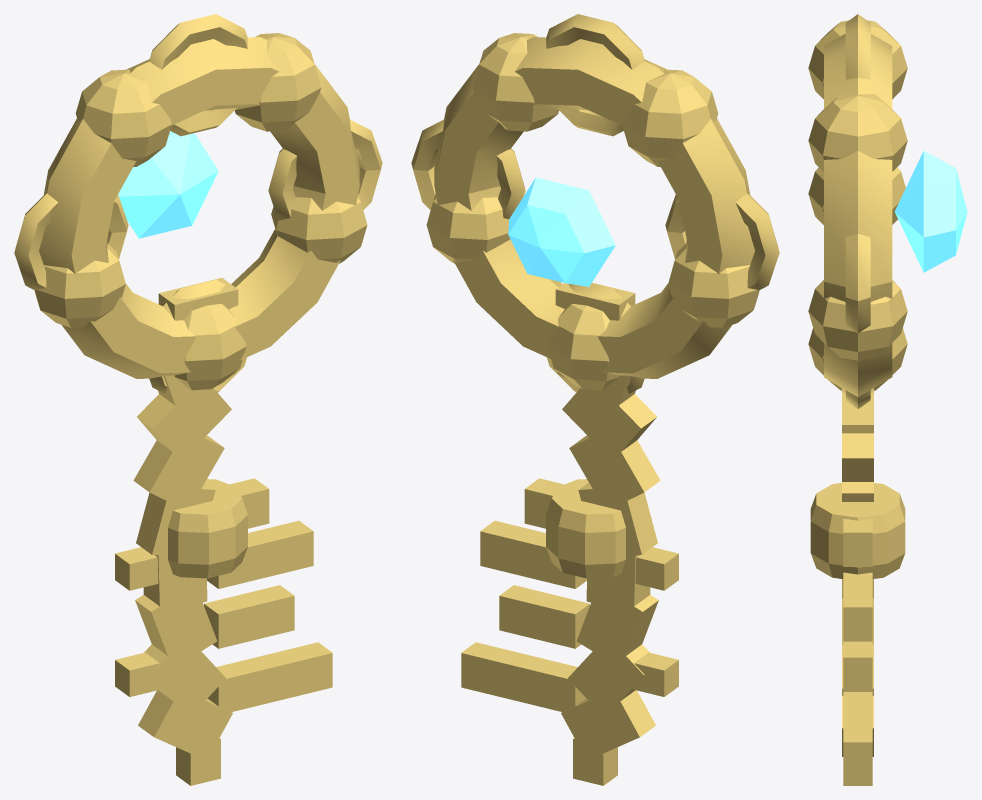
File: pickups-and-collectibles-key-floating-ornate-0a3575bb__19923.glb
3 renders of one model, left to right at view 1: azimuth 30°, elevation 25°; view 2: azimuth 150°, elevation 25°; view 3: azimuth 270°, elevation 25°, orthographic.
Parts seen in each view (by area): view 1: body/gold, body/gem; view 2: body/gold, body/gem; view 3: body/gold, body/gem.
Boxes of the visible parts, box(x1,y1,x2,y2) form: body/gold: box(14, 14, 382, 785); body/gem: box(118, 132, 218, 238); body/gold: box(411, 14, 779, 785); body/gem: box(508, 177, 615, 286); body/gold: box(808, 14, 907, 785); body/gem: box(894, 151, 967, 272).
Bounding box in the file's own units: 0.29 × 0.5708 × 0.109.
